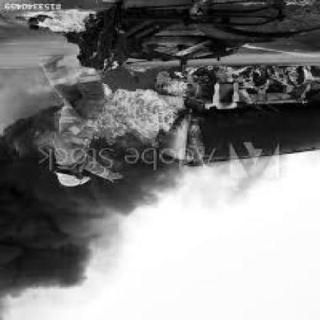Fire: (8, 67, 202, 157), (209, 64, 320, 96)
Smoke: (7, 149, 165, 289)
other: (54, 168, 92, 194)
